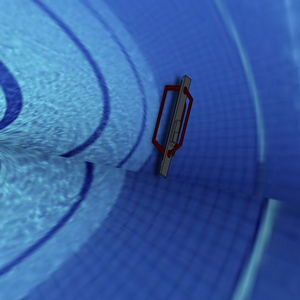submarine: (140, 52, 209, 192)
